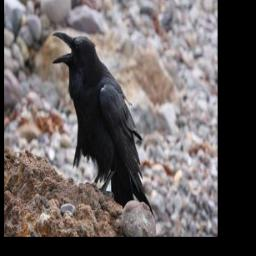Crow: (53, 33, 156, 218)
